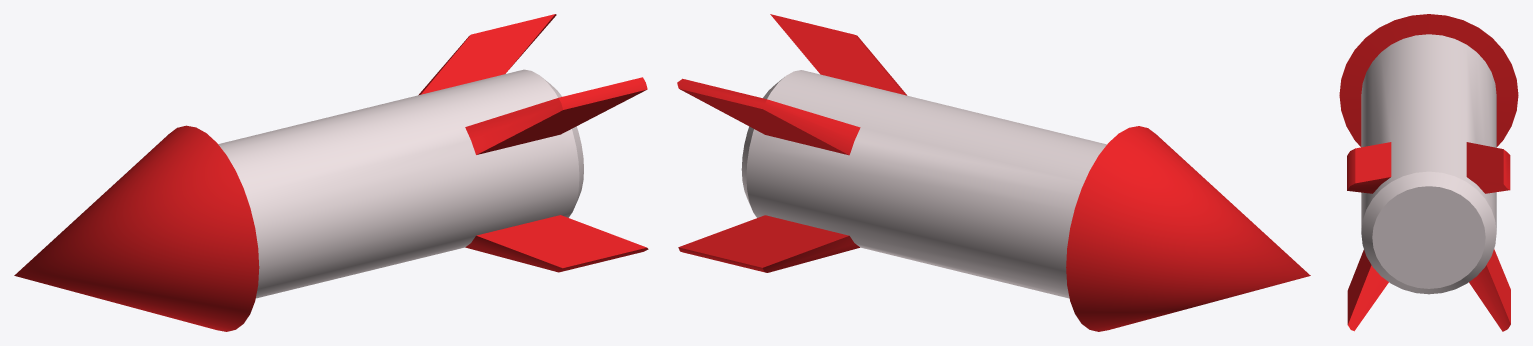
File: Rocket.fbx
The picture shows the model from 3 angles, left to right: view 1: azimuth 30°, elevation 25°; view 2: azimuth 150°, elevation 25°; view 3: azimuth 270°, elevation 25°; orthographic projection. The views are drawn at different scales.
Parts seen in each view (by area): view 1: Rocket; view 2: Rocket; view 3: Rocket.
Part boxes in pixels (x1,y1,x2,y2): Rocket: [14, 14, 648, 331]; Rocket: [677, 14, 1310, 331]; Rocket: [1339, 14, 1518, 331].
Size of the model in its own units: 433 by 134 by 134.
